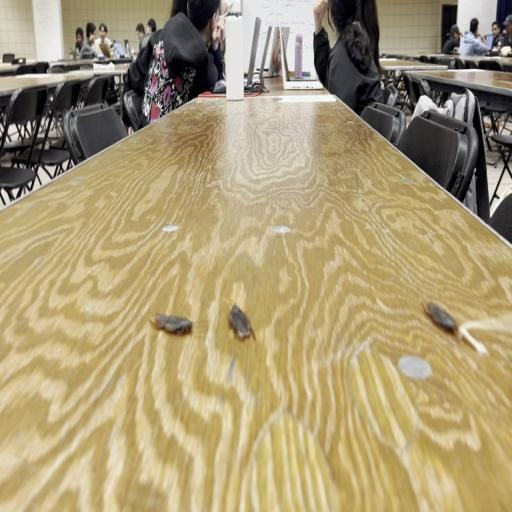cockroach: (422, 301, 460, 338), (226, 301, 256, 341), (148, 313, 196, 336)
